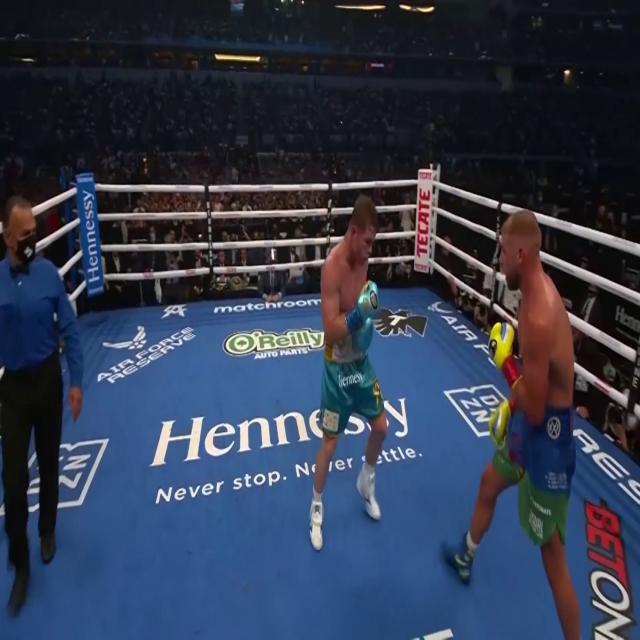boxer_1: (498, 207, 576, 408)
boxer_2: (325, 197, 379, 348)
gloves_1: (489, 322, 521, 388), (490, 399, 515, 445)
gloves_2: (346, 280, 380, 350)
